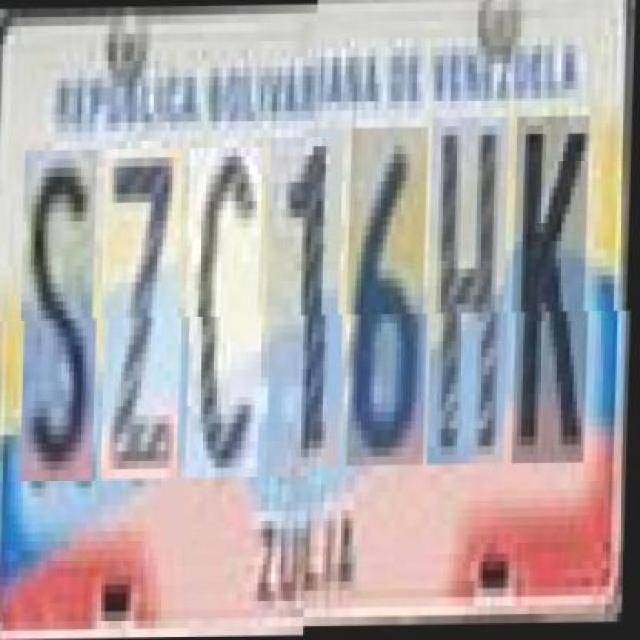1: (269, 138, 349, 478)
6: (349, 136, 434, 476)
c: (188, 148, 268, 478)
h: (430, 127, 515, 475)
k: (514, 126, 594, 474)
s: (22, 149, 102, 480)
z: (102, 148, 187, 480)
